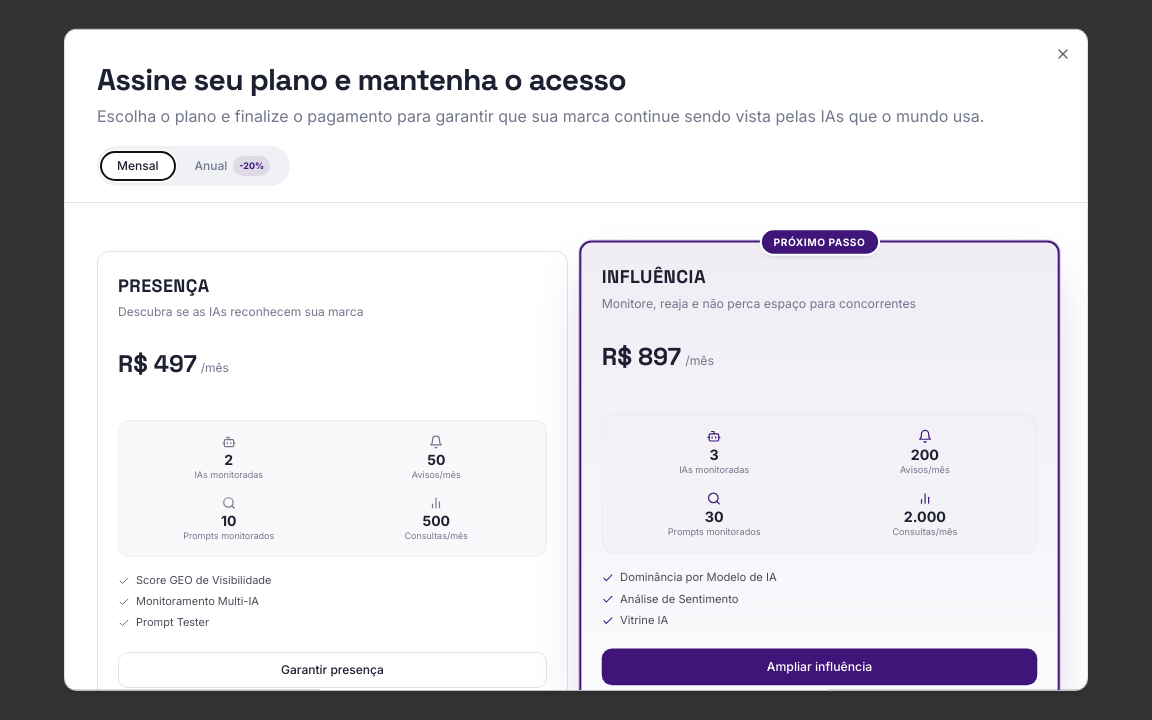
Scenario: CpfCnpjDialog no UpgradeModal › documento salvo: pula o pedido; servidor pedindo de novo reabre com a mensagem dele
What coordinates should you click on to do the following:
click the button "Ampliar influência"
I would click on:
 (819, 666)
Its box is [602,648,1037,685].
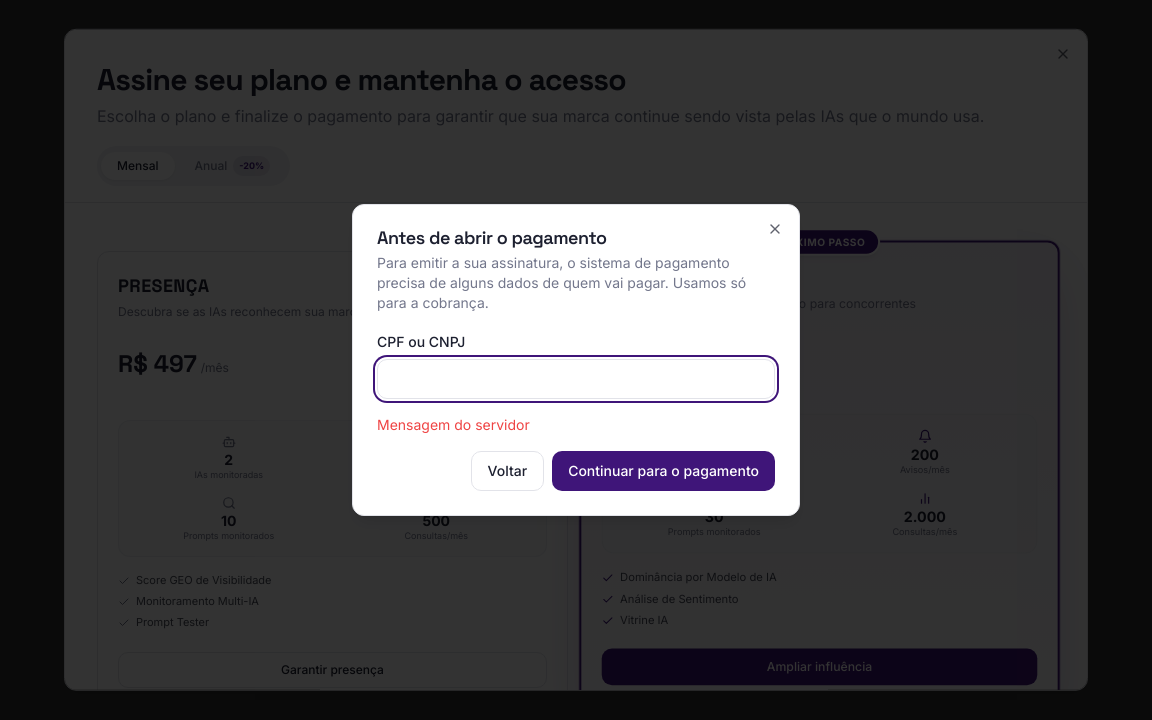
Expected: the text "Mensagem do servidor" is shown, [377,416,530,433]
